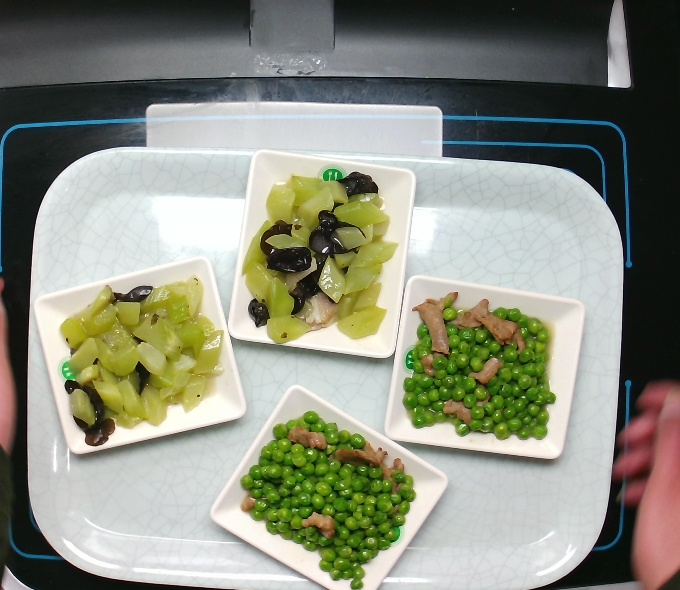wcq-CanDouRouSi: (237, 408, 418, 590), (400, 290, 560, 443)
wcq-WoSunKuai: (55, 272, 226, 449), (238, 168, 401, 347)
